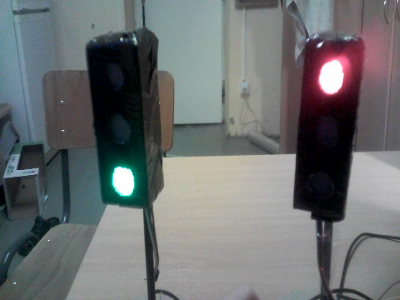trafficlight_green: (95, 42, 148, 207)
trafficlight_red: (301, 45, 361, 205)
